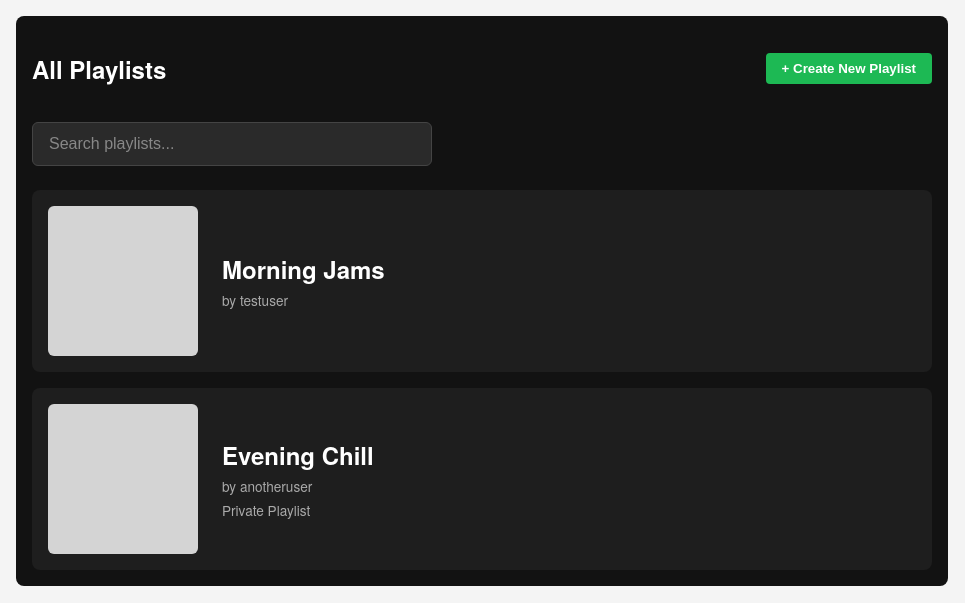
Playlists Page › filters playlists based on search input
expect the heading "Morning Jams" is shown: met, box top-left (222, 252), bottom-right (385, 286)
Step 1. Type "morning" into the field with placeholder "Search playlists..." → (232, 144), box top-left (32, 122), bottom-right (432, 166)
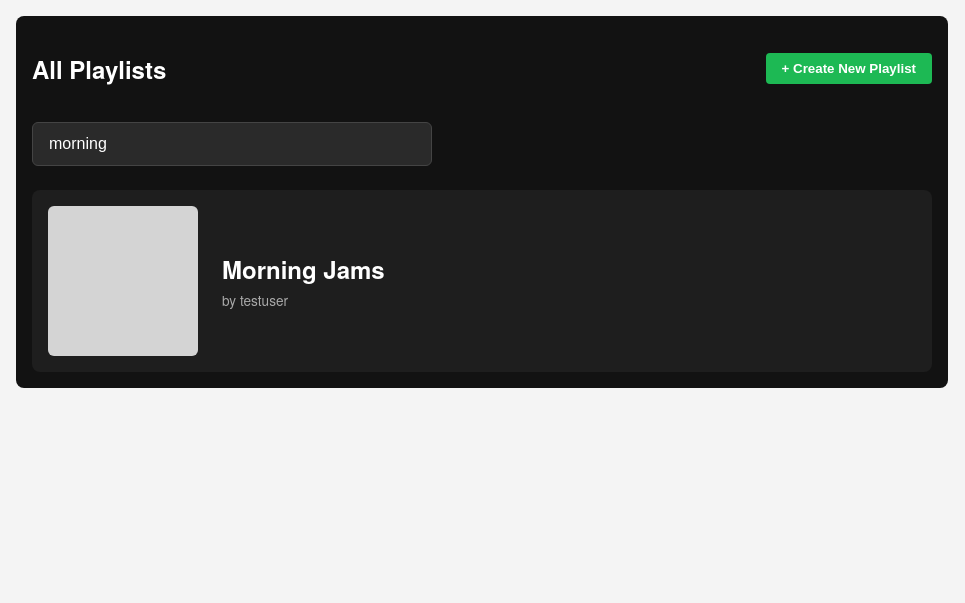
expect the heading "Morning Jams" is shown: met, box top-left (222, 252), bottom-right (385, 286)
expect the heading "Evening Chill" is gone: met
